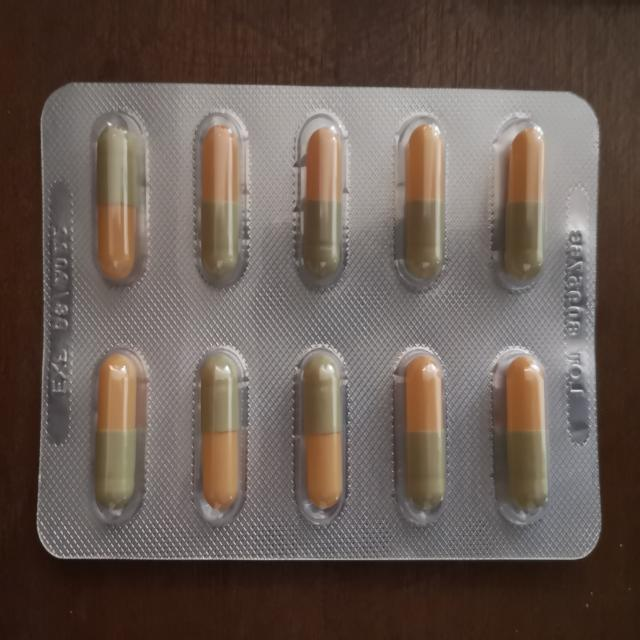Pill: (179, 338, 260, 533), (284, 336, 362, 532), (482, 344, 558, 536), (186, 101, 260, 295), (288, 102, 361, 296), (84, 105, 156, 298), (84, 341, 153, 536), (386, 339, 456, 531), (391, 104, 456, 296), (487, 109, 552, 294)
